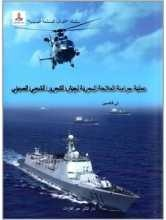airplane: (37, 18, 91, 71)
warship: (22, 130, 138, 210)
